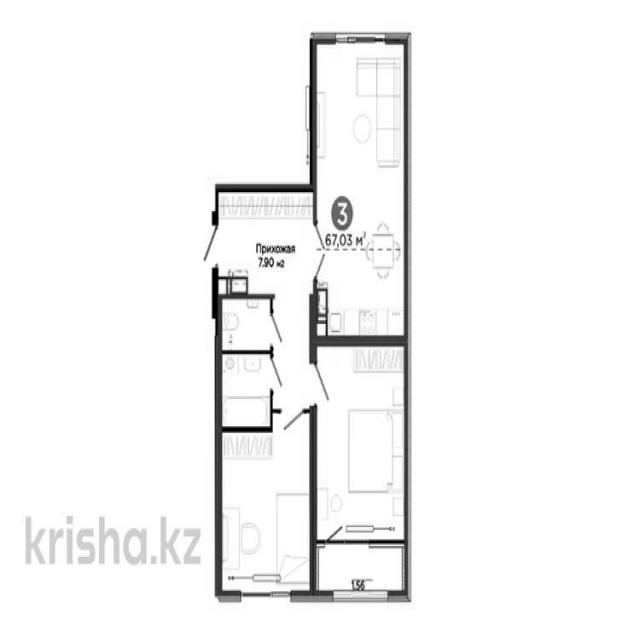balcony: (315, 544, 408, 596)
bathroom: (218, 352, 272, 430), (220, 295, 272, 352)
hallway: (216, 188, 315, 294)
living_room: (312, 341, 408, 545), (220, 432, 310, 598)
studio: (314, 38, 408, 343)
